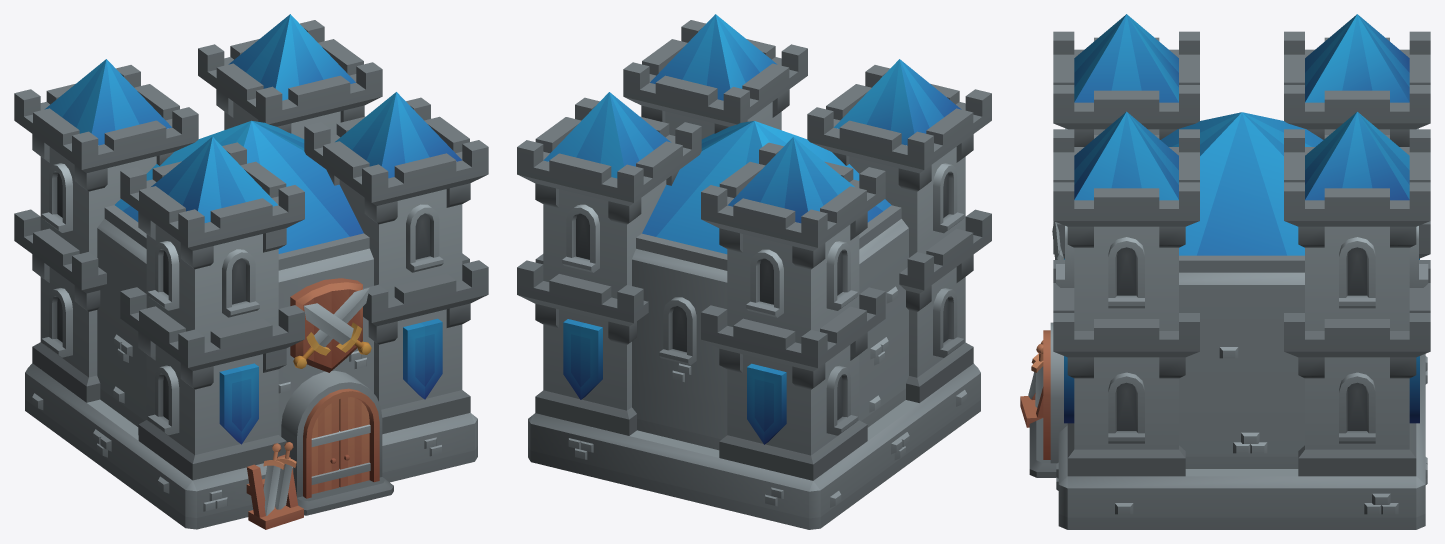
File: barracks_blue.glb
3 views of the same model, side by side, from view 1: azimuth 30°, elevation 25°; view 2: azimuth 150°, elevation 25°; view 3: azimuth 270°, elevation 25° (orthographic). The views are drawn at different scales.
Visible parts, largest first — view 1: barracks_blue; view 2: barracks_blue; view 3: barracks_blue.
Part boxes in pixels (<box>): barracks_blue: <box>14,14,488,529</box>; barracks_blue: <box>517,14,991,529</box>; barracks_blue: <box>1020,14,1430,529</box>.
Bounding box in the file's own units: 0.72 × 0.82 × 0.783.
Materials: 1 (1 with a texture image).
